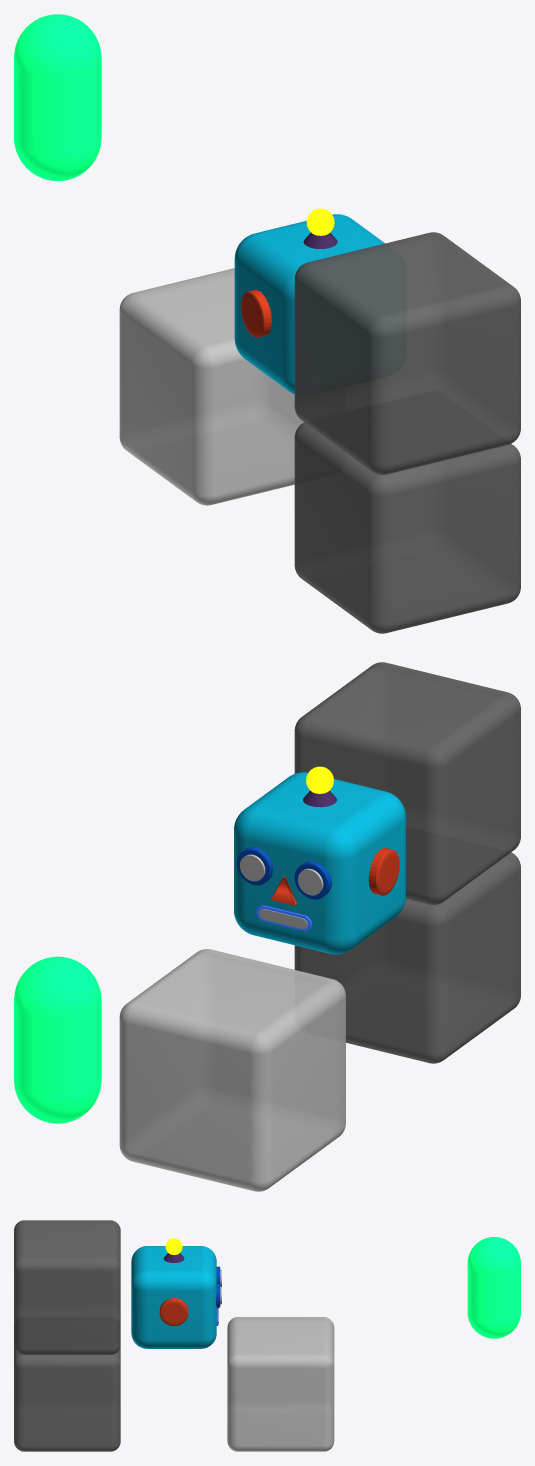
The model's file is env.fbx.
The picture shows the model from 3 angles, top to bottom: view 1: azimuth 30°, elevation 25°; view 2: azimuth 150°, elevation 25°; view 3: azimuth 270°, elevation 25°; orthographic projection. The views are drawn at different scales.
Parts seen in each view (by area): view 1: #, object 3, T, A; view 2: #, object 3, A, T; view 3: #, object 3, A, T.
Part boxes in pixels (<box>): #: <box>294,232,520,633</box>; object 3: <box>119,268,303,505</box>; T: <box>14,14,101,180</box>; A: <box>234,208,384,394</box>; #: <box>294,662,520,1063</box>; object 3: <box>119,949,345,1191</box>; A: <box>234,766,405,954</box>; T: <box>14,956,101,1123</box>; #: <box>14,1220,120,1451</box>; object 3: <box>227,1317,334,1451</box>; A: <box>131,1238,221,1348</box>; T: <box>467,1237,520,1338</box>.
Bounding box in the file's own units: 10 × 20.03 × 47.5.
